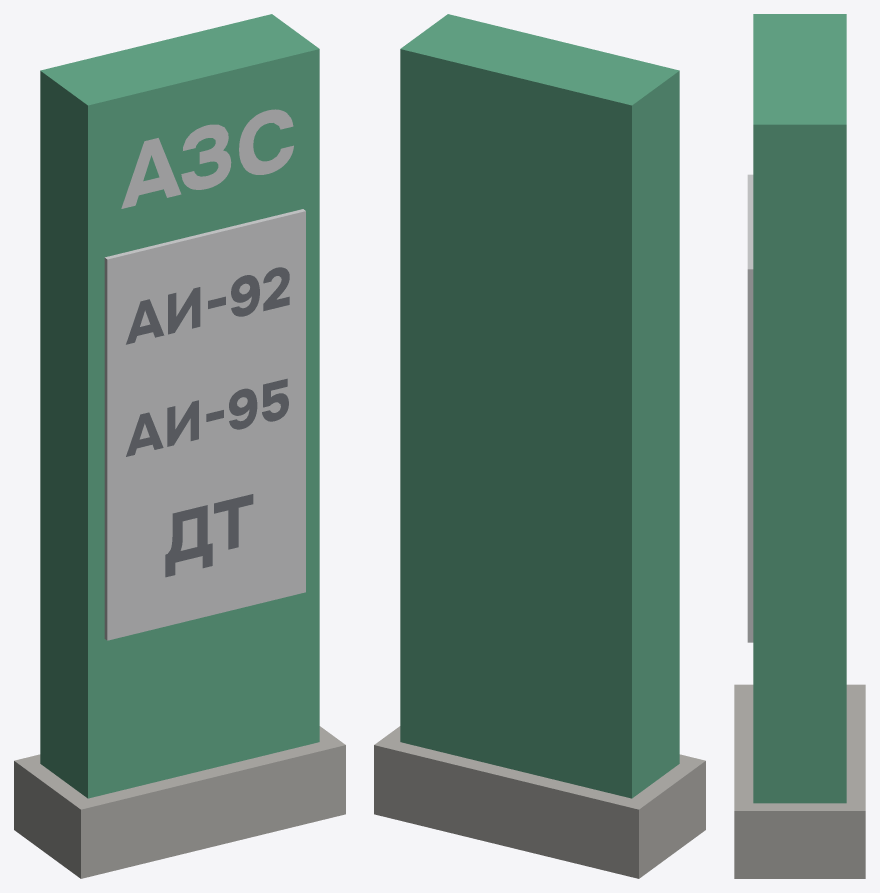
Rendered from fuel_pylon.glb.
The picture shows the model from 3 angles, left to right: view 1: azimuth 30°, elevation 25°; view 2: azimuth 150°, elevation 25°; view 3: azimuth 270°, elevation 25°; orthographic projection. The views are drawn at different scales.
Parts seen in each view (by area): view 1: fuel_pylon; view 2: fuel_pylon; view 3: fuel_pylon.
Boxes of the visible parts, <box> form: fuel_pylon: <box>14,14,345,878</box>; fuel_pylon: <box>374,14,705,878</box>; fuel_pylon: <box>734,14,865,878</box>.
Size of the model in its own units: 1.6 by 4.4 by 0.7.
